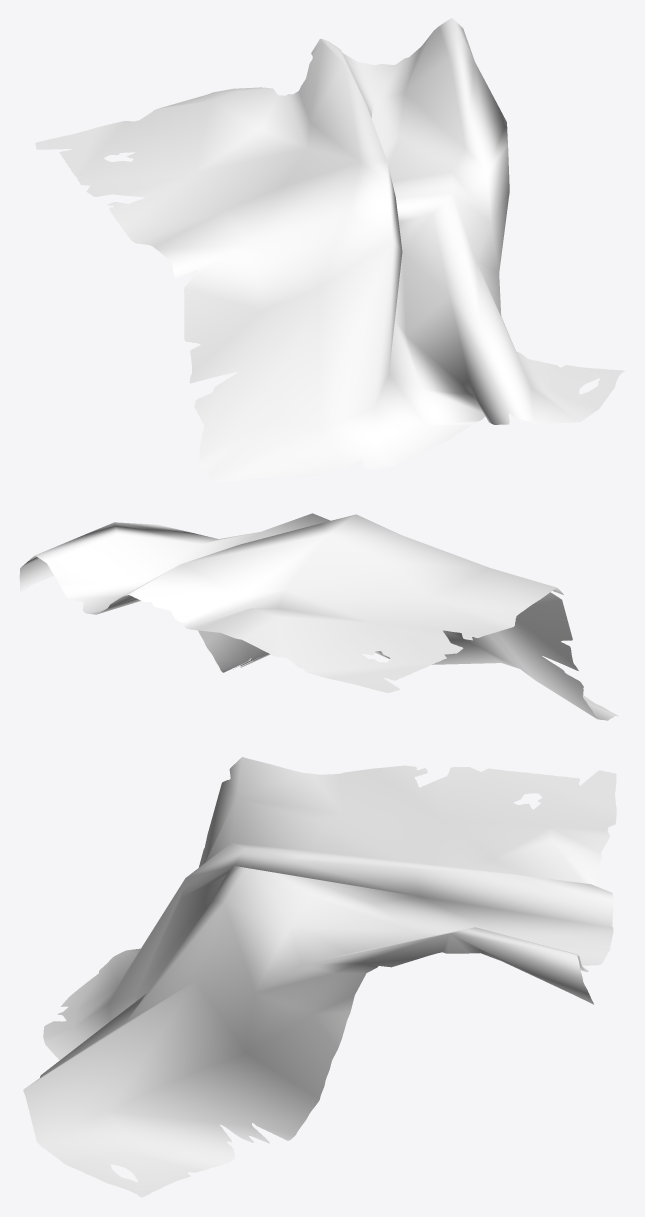
The model's file is SM_Prop_Cover_03.fbx.
3 views of the same model, one above another, from view 1: azimuth 30°, elevation 25°; view 2: azimuth 150°, elevation 25°; view 3: azimuth 270°, elevation 25° (orthographic). The views are drawn at different scales.
Parts seen in each view (by area): view 1: SM_Prop_Cover_03; view 2: SM_Prop_Cover_03; view 3: SM_Prop_Cover_03.
Boxes of the visible parts, <box> form: SM_Prop_Cover_03: <box>35,18,624,482</box>; SM_Prop_Cover_03: <box>19,513,618,720</box>; SM_Prop_Cover_03: <box>23,757,616,1197</box>.
Size of the model in its own units: 318 by 142 by 310.
